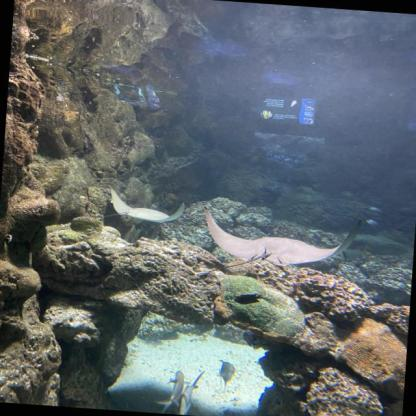fish: (177, 369, 203, 416), (154, 368, 186, 406), (216, 359, 235, 383), (234, 292, 262, 304), (242, 330, 257, 349)
stingray: (202, 208, 362, 270), (108, 188, 184, 224)
